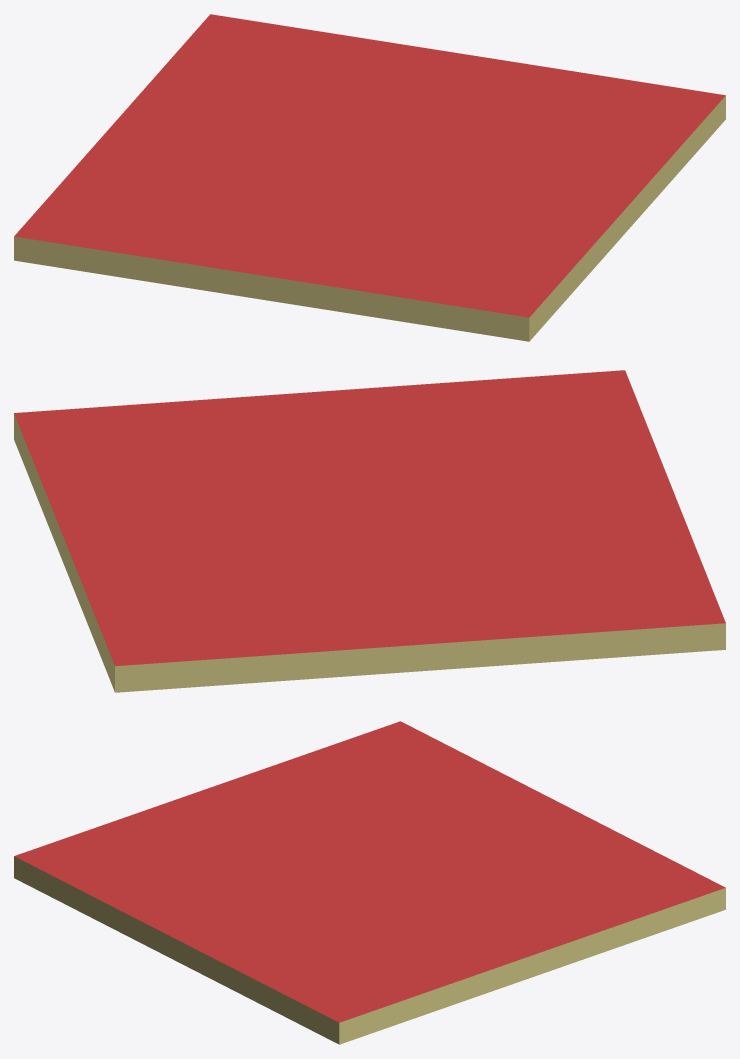
3 views of the same model, one above another, from view 1: azimuth 30°, elevation 25°; view 2: azimuth 150°, elevation 25°; view 3: azimuth 270°, elevation 25° (orthographic). The views are drawn at different scales.
Visible parts, largest first — view 1: group_3, group_4; view 2: group_3, group_4; view 3: group_3, group_4.
Boxes of the visible parts, left/top/right/bottom form: group_3: left=14, top=14, right=725, bottom=317; group_4: left=14, top=96, right=725, bottom=341; group_3: left=14, top=370, right=725, bottom=666; group_4: left=14, top=414, right=725, bottom=692; group_3: left=14, top=721, right=725, bottom=1022; group_4: left=14, top=856, right=725, bottom=1044.
Size of the model in its own units: 2.95 by 2.94 by 0.101.
